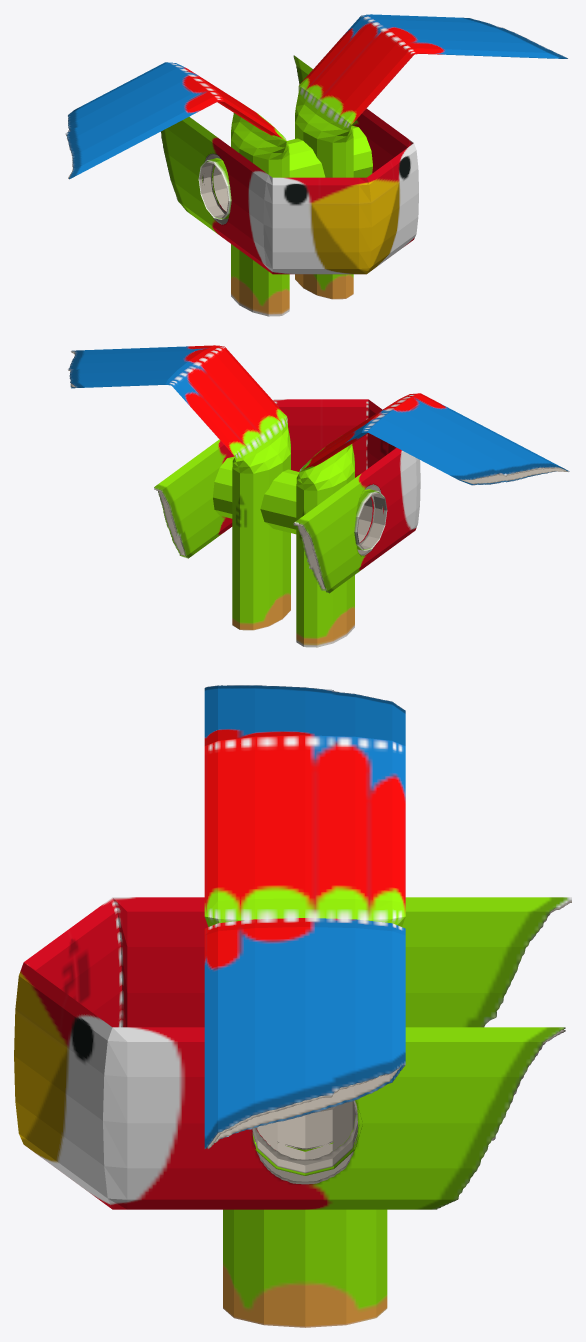
Rendered from repeat.glb.
3 renders of one model, top to bottom at view 1: azimuth 30°, elevation 25°; view 2: azimuth 150°, elevation 25°; view 3: azimuth 270°, elevation 25°, orthographic. The views are drawn at different scales.
Parts seen in each view (by area): view 1: P44 リピート_頭_顔と黄色いくちばし [短冊5-1], P49 リピート_脚・翼_左脚から左の翼 [短冊5-3], P47 リピート_脚・翼_右脚から右の翼 [短冊5-2], P42 リピート_頭・胴体_顔と左右の脚をつなぐ軸 [短冊4-3]; view 2: P49 リピート_脚・翼_左脚から左の翼 [短冊5-3], P44 リピート_頭_顔と黄色いくちばし [短冊5-1], P47 リピート_脚・翼_右脚から右の翼 [短冊5-2], P42 リピート_頭・胴体_顔と左右の脚をつなぐ軸 [短冊4-3]; view 3: P44 リピート_頭_顔と黄色いくちばし [短冊5-1], P49 リピート_脚・翼_左脚から左の翼 [短冊5-3], P47 リピート_脚・翼_右脚から右の翼 [短冊5-2], P42 リピート_頭・胴体_顔と左右の脚をつなぐ軸 [短冊4-3].
Boxes of the visible parts, x1,y1,x2,y2 form: P44 リピート_頭_顔と黄色いくちばし [短冊5-1]: [161, 55, 418, 274]; P49 リピート_脚・翼_左脚から左の翼 [短冊5-3]: [295, 14, 567, 299]; P47 リピート_脚・翼_右脚から右の翼 [短冊5-2]: [65, 62, 289, 316]; P42 リピート_頭・胴体_顔と左右の脚をつなぐ軸 [短冊4-3]: [198, 125, 372, 219]; P49 リピート_脚・翼_左脚から左の翼 [短冊5-3]: [68, 345, 290, 630]; P44 リピート_頭_顔と黄色いくちばし [短冊5-1]: [154, 399, 420, 593]; P47 リピート_脚・翼_右脚から右の翼 [短冊5-2]: [296, 393, 569, 647]; P42 リピート_頭・胴体_顔と左右の脚をつなぐ軸 [短冊4-3]: [213, 456, 387, 550]; P44 リピート_頭_顔と黄色いくちばし [短冊5-1]: [14, 897, 571, 1209]; P49 リピート_脚・翼_左脚から左の翼 [短冊5-3]: [204, 918, 405, 1327]; P47 リピート_脚・翼_右脚から右の翼 [短冊5-2]: [204, 685, 405, 926]; P42 リピート_頭・胴体_顔と左右の脚をつなぐ軸 [短冊4-3]: [249, 1100, 362, 1175].
Size of the model in its own units: 0.0745 by 0.0337 by 0.0376.
8 materials, 8 textured.
